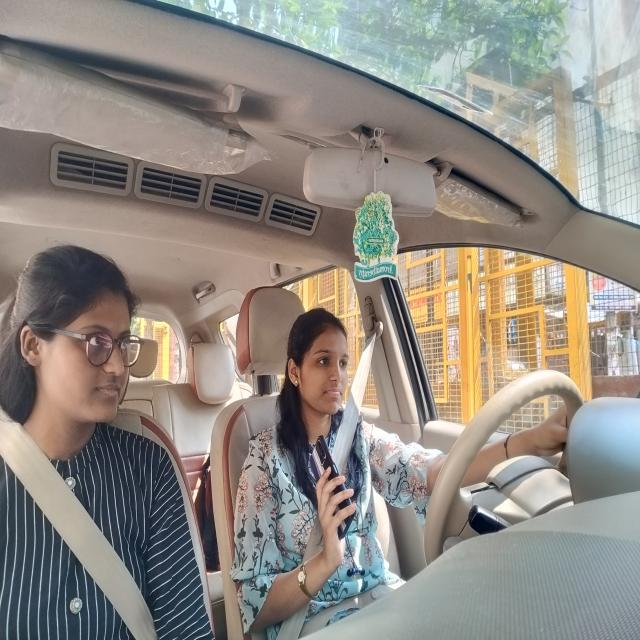mobile: (302, 423, 355, 569)
person: (0, 231, 138, 470), (281, 305, 364, 432)
